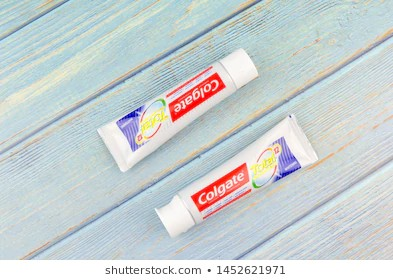colgate-total-150gm: (152, 114, 329, 245), (96, 43, 265, 174)
